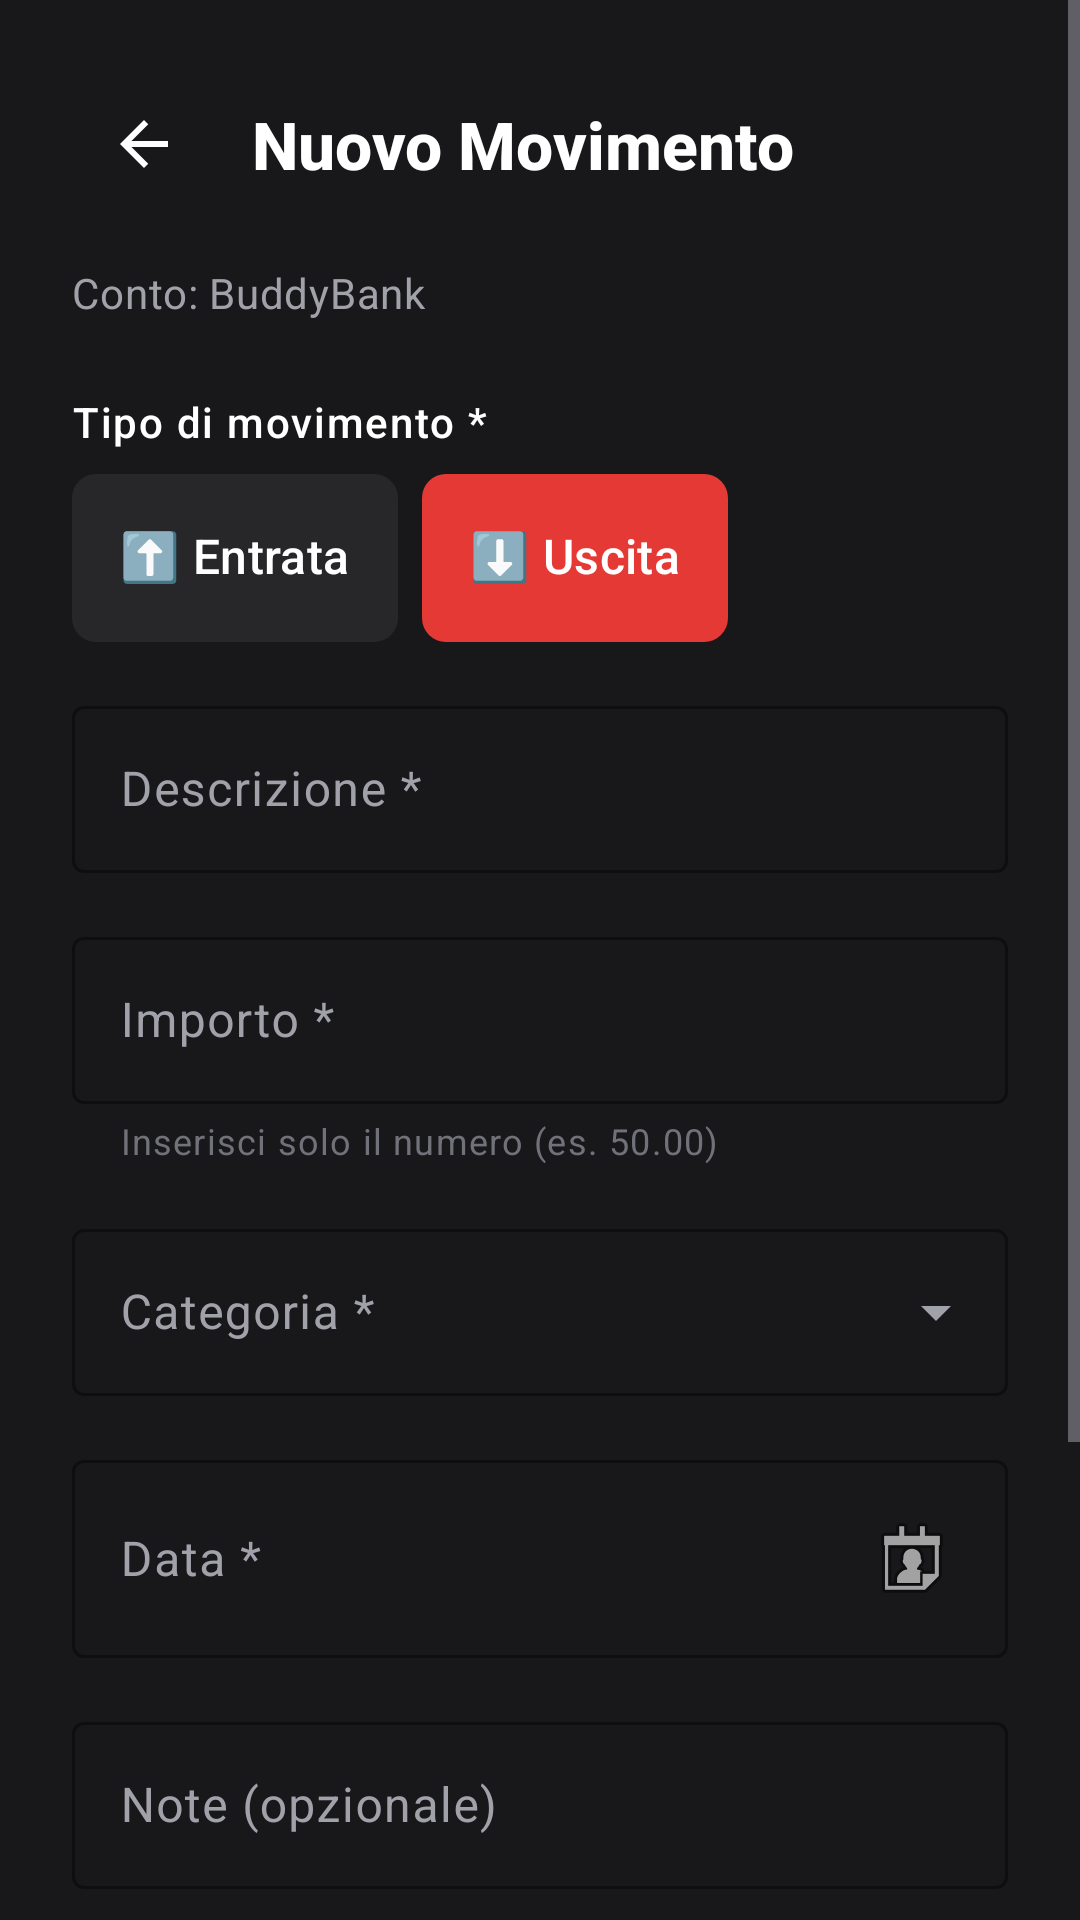

Named icons in this screenshot (1080 × 1920) and their bounding boxes, (x1=x1, y1=y1, x2=x2, y2=y2):
Torna indietro: (x1=120, y1=120, x2=168, y2=168)
